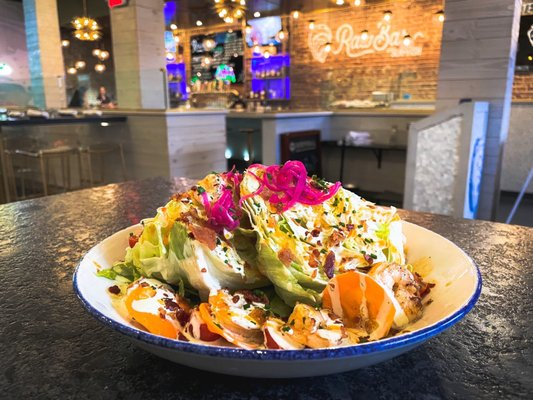sushi: (51, 183, 486, 372)
